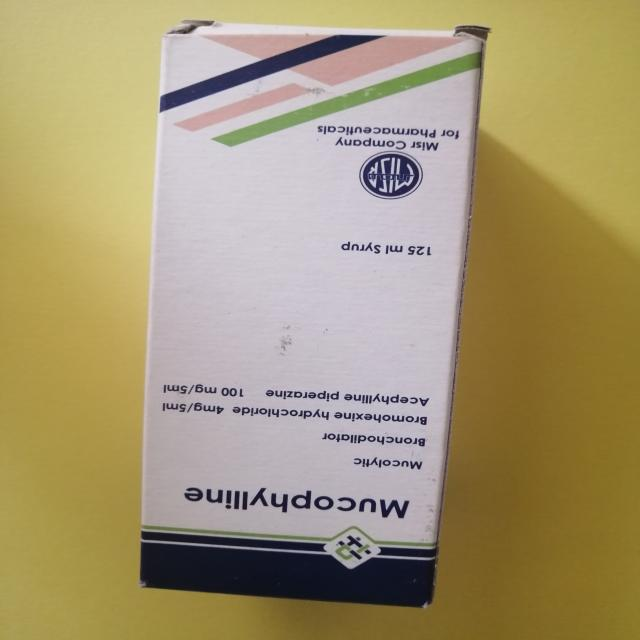Medicine: (130, 16, 497, 607)
